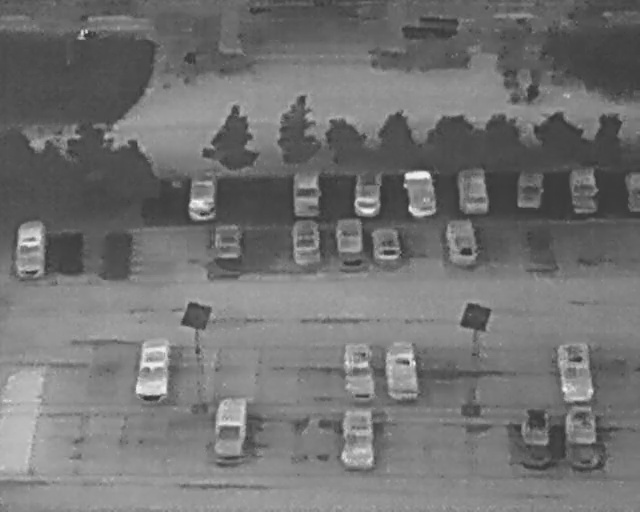Car: (554, 336, 598, 406), (132, 335, 173, 404), (209, 393, 250, 460), (342, 341, 379, 407), (383, 338, 420, 404), (340, 406, 376, 472), (442, 217, 482, 269), (13, 219, 46, 278), (566, 162, 602, 215), (401, 170, 439, 219), (454, 165, 492, 214), (565, 403, 599, 447), (334, 216, 366, 261), (291, 172, 321, 218), (291, 221, 321, 267), (520, 406, 552, 449), (369, 226, 404, 265), (353, 172, 383, 217), (187, 177, 217, 220), (515, 168, 546, 209), (213, 221, 241, 260), (621, 167, 639, 214)
